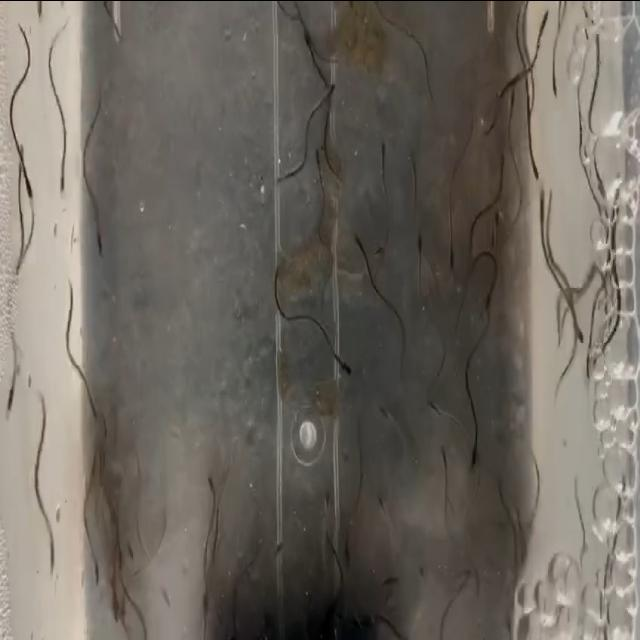active_glass_eel: (24, 366, 47, 419), (529, 0, 551, 52), (56, 156, 70, 214), (520, 144, 541, 182), (610, 171, 626, 219), (4, 369, 18, 423), (411, 229, 428, 273), (90, 554, 106, 600), (332, 347, 354, 379), (322, 483, 336, 532), (298, 22, 318, 56), (312, 141, 325, 193), (111, 534, 127, 576), (376, 140, 392, 182), (20, 167, 40, 200), (372, 394, 394, 424), (318, 78, 336, 114), (466, 432, 480, 478), (90, 222, 104, 266), (200, 473, 218, 507), (266, 540, 284, 574), (434, 444, 452, 478), (487, 210, 505, 242), (532, 188, 548, 224), (354, 222, 369, 260), (122, 526, 134, 572), (443, 242, 456, 284), (156, 581, 173, 613), (381, 570, 398, 602), (572, 317, 588, 350), (374, 232, 389, 266), (495, 144, 509, 180), (544, 64, 558, 100), (371, 484, 389, 511), (116, 596, 130, 630), (481, 288, 495, 322), (342, 530, 354, 568), (342, 444, 358, 472), (412, 558, 427, 586), (426, 392, 442, 417), (506, 88, 519, 114), (31, 0, 47, 21)
